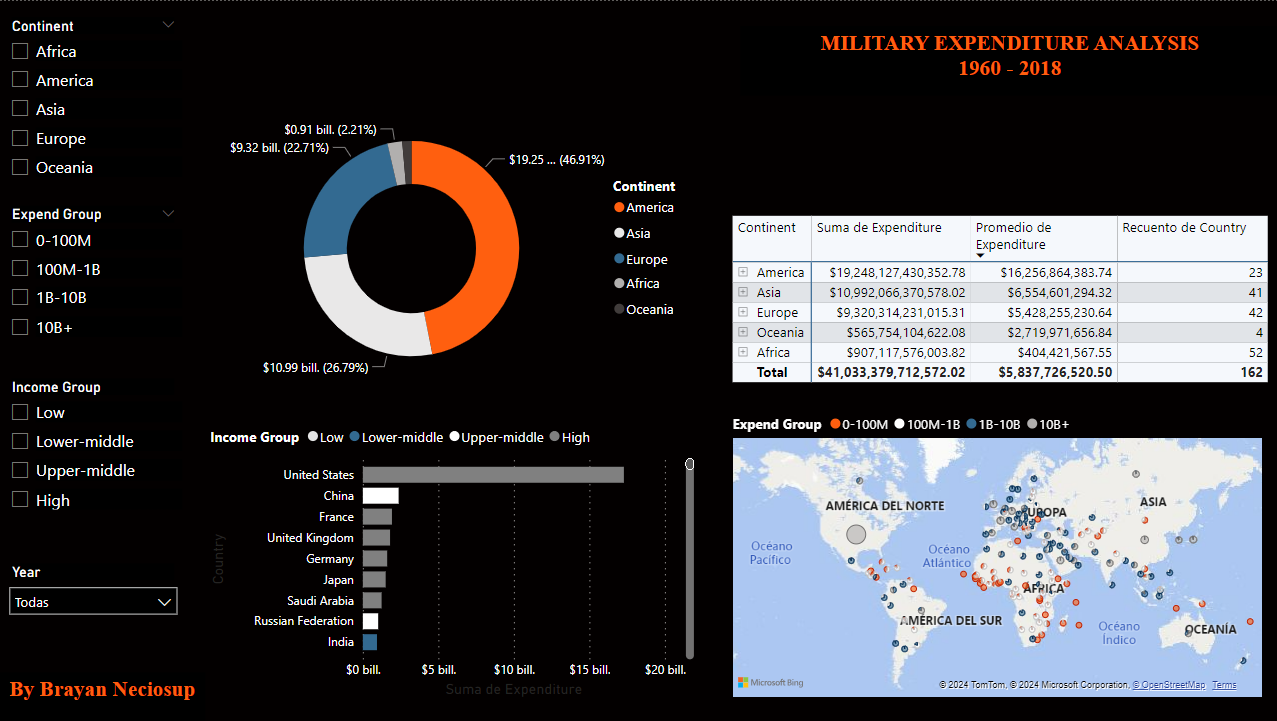

The page's visual inventory and layout, read from the dashboard file:
{"tool":"powerbi","page":{"name":"Página 1","canvas":[1280,720],"ordinal":0},"visuals":[{"type":"donutChart","fields":{"Category":["Military Expenditure.Continent"],"Y":["Sum(Military Expenditure.Expenditure)"]},"box":[206.6,94.1,493.9,308],"z":0},{"type":"slicer","fields":{"Values":["Military Expenditure.Year"]},"box":[0,557.4,188.3,89.2],"z":1},{"type":"map","fields":{"Category":["Military Expenditure.Country"],"Size":["Sum(Military Expenditure.Expenditure)"],"Series":["Military Expenditure.Expend Group"]},"box":[728.6,402.2,539.1,298.3],"z":2},{"type":"barChart","fields":{"Category":["Military Expenditure.Country"],"Y":["Sum(Military Expenditure.Expenditure)"],"Series":["IG Orden.Income Group"]},"box":[206.6,414.4,493.9,286],"z":3},{"type":"pivotTable","fields":{"Rows":["Military Expenditure.Continent","Military Expenditure.Country"],"Values":["Sum(Military Expenditure.Expenditure)","Avg(Military Expenditure.Expenditure)","Count(Military Expenditure.Country)"]},"box":[728.8,210,551.2,176.2],"z":4},{"type":"slicer","fields":{"Values":["Military Expenditure.Continent"]},"box":[0,11,188.3,189.5],"z":5},{"type":"slicer","fields":{"Values":["Military Expenditure.Expend Group"]},"box":[0,200.5,188.3,149.1],"z":6},{"type":"slicer","fields":{"Values":["IG Orden.Income Group"]},"box":[0,372.8,188.3,151.6],"z":7},{"type":"textbox","box":[740.8,24.4,539.1,69.7],"z":8},{"type":"textbox","box":[0,671.1,206.6,48.9],"z":9}]}

Visuals, with their boxes in screenshot pixels (x1, y1, x2, y2), scaled from the page's 1280x720 canvas onto the 1277x721 screenshot:
donutChart - Military Expenditure.Continent x Sum(Military Expenditure.Expenditure): left=206, top=94, right=699, bottom=403
slicer - Military Expenditure.Year: left=0, top=558, right=188, bottom=647
map - Military Expenditure.Country x Sum(Military Expenditure.Expenditure): left=727, top=403, right=1265, bottom=701
barChart - Military Expenditure.Country x Sum(Military Expenditure.Expenditure): left=206, top=415, right=699, bottom=701
pivotTable - Military Expenditure.Continent x Military Expenditure.Country: left=727, top=210, right=1276, bottom=387
slicer - Military Expenditure.Continent: left=0, top=11, right=188, bottom=201
slicer - Military Expenditure.Expend Group: left=0, top=201, right=188, bottom=350
slicer - IG Orden.Income Group: left=0, top=373, right=188, bottom=525
textbox: left=739, top=24, right=1276, bottom=94
textbox: left=0, top=672, right=206, bottom=720
